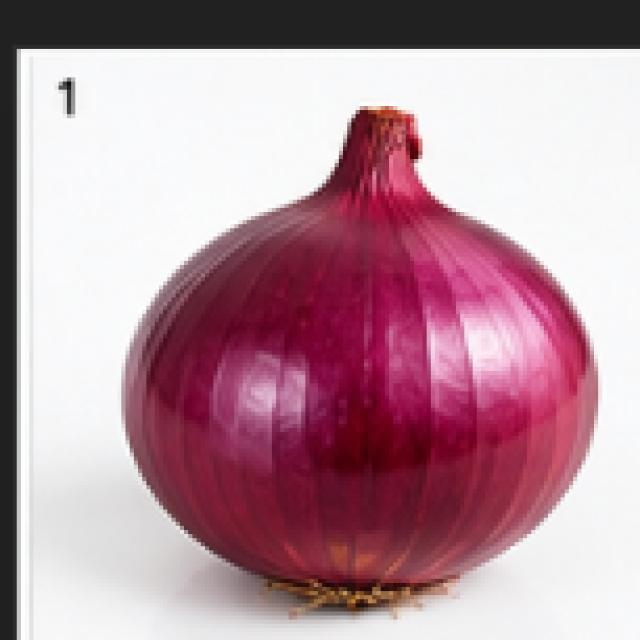healthy: (17, 53, 636, 636), (258, 304, 260, 304)
